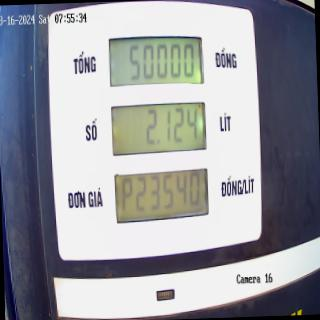screen: (104, 31, 214, 226)
